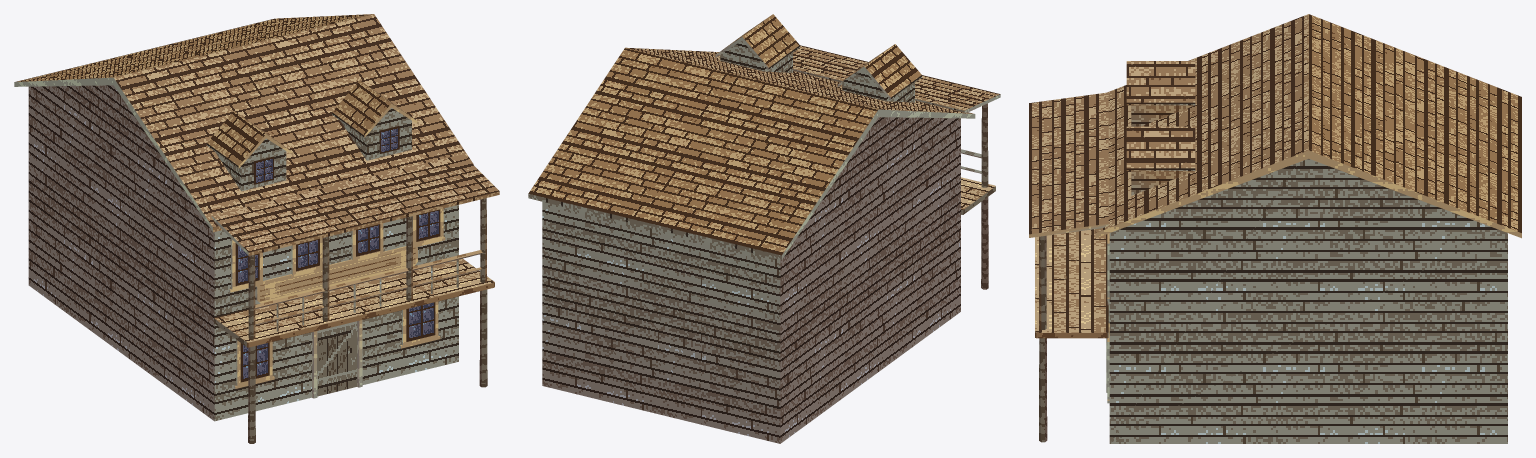
Rendered from wtown.hotel.glb.
The picture shows the model from 3 angles, left to right: view 1: azimuth 30°, elevation 25°; view 2: azimuth 150°, elevation 25°; view 3: azimuth 270°, elevation 25°; orthographic projection. The views are drawn at different scales.
Visible parts, largest first — view 1: kit_body, kit_roof, kit_veranda, kit_veranda_roof, kit_card_panes, kit_dormer_roofs, kit_dormers, kit_windows, kit_trim; view 2: kit_body, kit_roof, kit_dormer_roofs, kit_veranda_roof, kit_veranda, kit_dormers; view 3: kit_body, kit_roof, kit_veranda_roof, kit_veranda, kit_dormer_roofs, kit_dormers.
Part boxes in pixels (<box>): kit_body: <box>28,85,458,421</box>; kit_roof: <box>14,14,473,232</box>; kit_veranda: <box>214,198,494,443</box>; kit_veranda_roof: <box>211,154,499,255</box>; kit_card_panes: <box>235,126,440,396</box>; kit_dormer_roofs: <box>206,80,418,168</box>; kit_dormers: <box>215,108,411,191</box>; kit_windows: <box>229,208,445,388</box>; kit_trim: <box>256,246,417,398</box>; kit_body: <box>542,117,960,443</box>; kit_roof: <box>528,47,975,259</box>; kit_dormer_roofs: <box>715,14,921,99</box>; kit_veranda_roof: <box>793,45,1000,112</box>; kit_veranda: <box>961,103,995,289</box>; kit_dormers: <box>720,41,914,102</box>; kit_body: <box>1109,158,1507,443</box>; kit_roof: <box>1095,14,1521,238</box>; kit_veranda_roof: <box>1029,92,1108,237</box>; kit_veranda: <box>1035,229,1108,442</box>; kit_dormer_roofs: <box>1126,61,1195,170</box>; kit_dormers: <box>1131,105,1194,195</box>.
Bounding box in the file's own units: 8.1 × 8.25 × 12.37.
Materials: 10 (10 with a texture image).
